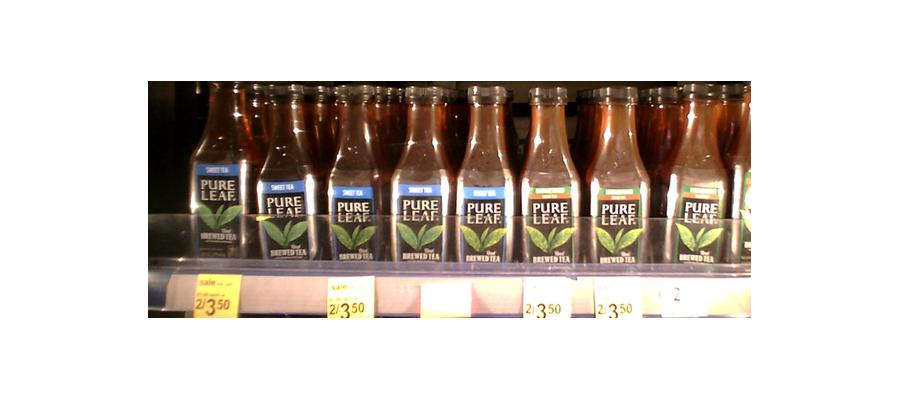bottle: (517, 80, 584, 271), (320, 79, 388, 266), (187, 76, 254, 262), (387, 79, 452, 270), (454, 78, 518, 270), (584, 81, 649, 270), (665, 78, 726, 270), (255, 79, 317, 261)
